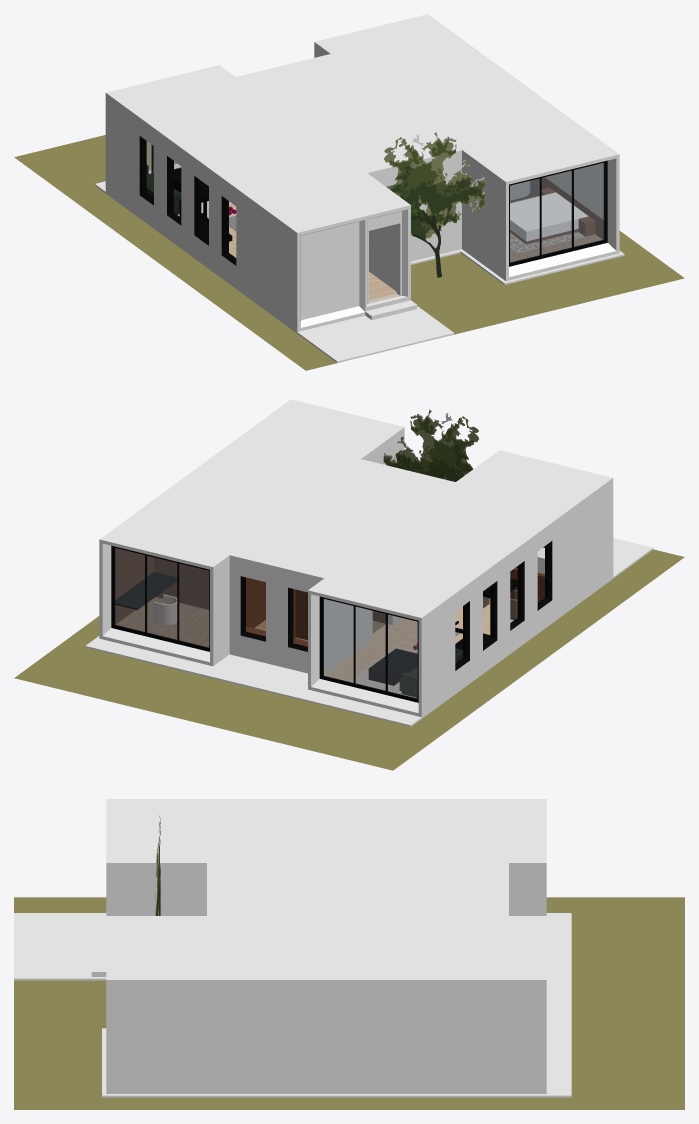
File: 自建住宅100㎡住1~2人（包豪斯-渲染-贴图）.obj
The picture shows the model from 3 angles, top to bottom: view 1: azimuth 30°, elevation 25°; view 2: azimuth 150°, elevation 25°; view 3: azimuth 270°, elevation 25°; orthographic projection. The views are drawn at different scales.
Parts seen in each view (by area): view 1: Mesh122 Group135 ____100__1_2____________1 Model, Mesh89 Group99 Group98 Group1 ____100__1_2____________1 Model, Mesh103 Group116 Group1 ____100__1_2____________1 Model, Mesh93 Group104 Group98 Group1 ____100__1_2____________1 Model, Mesh105 Group118 Group1 ____100__1_2____________1 Model, Mesh116 Group131 Group1 ____100__1_2____________1 Model, Mesh9 Group12 Group3 Group2 Group1 ____100__1_2____________1 Mod, Mesh109 Group123 Group122 Group1 ____100__1_2____________1 Model, Mesh121 Component_85_1 Component_86_1 G_2D_TREE1 Group1 ____100_, Mesh102 Group115 Group1 ____100__1_2____________1 Model, Mesh101 Group114 Group1 ____100__1_2____________1 Model, Mesh117 Group132 Group1 ____100__1_2____________1 Model (+20 smaller); view 2: Mesh122 Group135 ____100__1_2____________1 Model, Mesh109 Group123 Group122 Group1 ____100__1_2____________1 Model, Mesh94 Group106 Group105 Group1 ____100__1_2____________1 Model, Mesh113 Group128 Group122 Group1 ____100__1_2____________1 Model, Mesh117 Group132 Group1 ____100__1_2____________1 Model, Mesh116 Group131 Group1 ____100__1_2____________1 Model, Mesh98 Group111 Group105 Group1 ____100__1_2____________1 Model, Mesh118 Group133 Group1 ____100__1_2____________1 Model, Mesh101 Group114 Group1 ____100__1_2____________1 Model, Mesh103 Group116 Group1 ____100__1_2____________1 Model, Mesh105 Group118 Group1 ____100__1_2____________1 Model, Mesh102 Group115 Group1 ____100__1_2____________1 Model (+17 smaller); view 3: Mesh122 Group135 ____100__1_2____________1 Model, Mesh116 Group131 Group1 ____100__1_2____________1 Model, Mesh89 Group99 Group98 Group1 ____100__1_2____________1 Model, Mesh94 Group106 Group105 Group1 ____100__1_2____________1 Model, Mesh99 Group112 Group1 ____100__1_2____________1 Model, Mesh104 Group117 Group1 ____100__1_2____________1 Model, Mesh106 Group119 Group1 ____100__1_2____________1 Model, Mesh107 Group120 Group1 ____100__1_2____________1 Model, Mesh108 Group121 Group1 ____100__1_2____________1 Model, Mesh103 Group116 Group1 ____100__1_2____________1 Model, Mesh109 Group123 Group122 Group1 ____100__1_2____________1 Model, Mesh105 Group118 Group1 ____100__1_2____________1 Model (+9 smaller).
Part boxes in pixels (box(x1,y1,x2,y2)): Mesh122 Group135 ____100__1_2____________1 Model: box(14, 135, 684, 370); Mesh89 Group99 Group98 Group1 ____100__1_2____________1 Model: box(478, 134, 619, 280); Mesh103 Group116 Group1 ____100__1_2____________1 Model: box(270, 185, 410, 331); Mesh93 Group104 Group98 Group1 ____100__1_2____________1 Model: box(510, 163, 603, 262); Mesh105 Group118 Group1 ____100__1_2____________1 Model: box(242, 165, 383, 311); Mesh116 Group131 Group1 ____100__1_2____________1 Model: box(95, 164, 624, 362); Mesh9 Group12 Group3 Group2 Group1 ____100__1_2____________1 Mod: box(301, 211, 401, 320); Mesh109 Group123 Group122 Group1 ____100__1_2____________1 Model: box(105, 65, 246, 211); Mesh121 Component_85_1 Component_86_1 G_2D_TREE1 Group1 ____100_: box(384, 132, 484, 277); Mesh102 Group115 Group1 ____100__1_2____________1 Model: box(188, 125, 328, 271); Mesh101 Group114 Group1 ____100__1_2____________1 Model: box(160, 105, 300, 251); Mesh117 Group132 Group1 ____100__1_2____________1 Model: box(133, 85, 273, 231); Mesh122 Group135 ____100__1_2____________1 Model: box(14, 549, 684, 770); Mesh109 Group123 Group122 Group1 ____100__1_2____________1 Model: box(308, 570, 448, 717); Mesh94 Group106 Group105 Group1 ____100__1_2____________1 Model: box(99, 519, 239, 666); Mesh113 Group128 Group122 Group1 ____100__1_2____________1 Model: box(323, 599, 417, 698); Mesh117 Group132 Group1 ____100__1_2____________1 Model: box(336, 550, 476, 696); Mesh116 Group131 Group1 ____100__1_2____________1 Model: box(85, 538, 653, 726); Mesh98 Group111 Group105 Group1 ____100__1_2____________1 Model: box(115, 548, 208, 647); Mesh118 Group133 Group1 ____100__1_2____________1 Model: box(229, 507, 342, 665); Mesh101 Group114 Group1 ____100__1_2____________1 Model: box(363, 530, 503, 676); Mesh103 Group116 Group1 ____100__1_2____________1 Model: box(472, 450, 613, 596); Mesh105 Group118 Group1 ____100__1_2____________1 Model: box(445, 470, 585, 616); Mesh102 Group115 Group1 ____100__1_2____________1 Model: box(390, 510, 531, 656); Mesh122 Group135 ____100__1_2____________1 Model: box(14, 897, 684, 1109); Mesh116 Group131 Group1 ____100__1_2____________1 Model: box(14, 913, 571, 1097); Mesh89 Group99 Group98 Group1 ____100__1_2____________1 Model: box(106, 916, 169, 1093); Mesh94 Group106 Group105 Group1 ____100__1_2____________1 Model: box(483, 916, 546, 1093); Mesh99 Group112 Group1 ____100__1_2____________1 Model: box(420, 916, 483, 1093); Mesh104 Group117 Group1 ____100__1_2____________1 Model: box(358, 916, 420, 1093); Mesh106 Group119 Group1 ____100__1_2____________1 Model: box(295, 916, 357, 1093); Mesh107 Group120 Group1 ____100__1_2____________1 Model: box(169, 916, 231, 1093); Mesh108 Group121 Group1 ____100__1_2____________1 Model: box(232, 916, 294, 1093); Mesh103 Group116 Group1 ____100__1_2____________1 Model: box(106, 799, 169, 915); Mesh109 Group123 Group122 Group1 ____100__1_2____________1 Model: box(483, 799, 546, 915); Mesh105 Group118 Group1 ____100__1_2____________1 Model: box(169, 799, 231, 915).
Size of the model in its own units: 12000 by 4497 by 16000.
27 materials, 14 textured.
